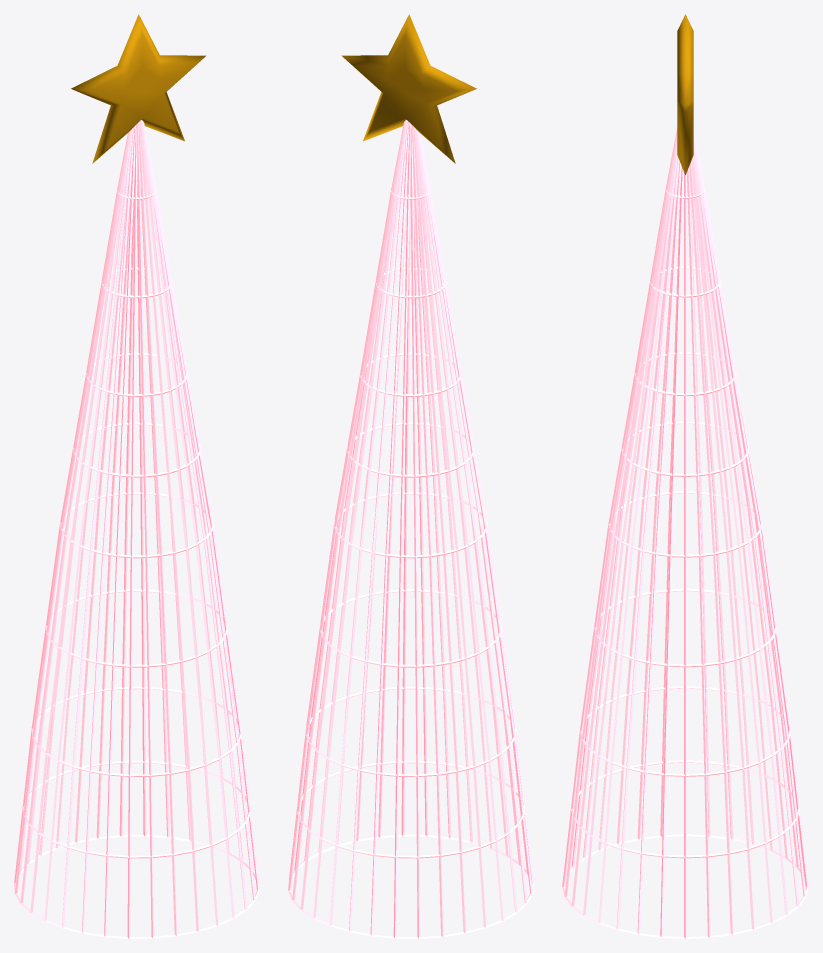
File: ARBOL CON LUCES 1.fbx
3 renders of one model, left to right at view 1: azimuth 30°, elevation 25°; view 2: azimuth 150°, elevation 25°; view 3: azimuth 270°, elevation 25°, orthographic.
Visible parts, largest first — view 1: Arbol Luces; view 2: Arbol Luces; view 3: Arbol Luces.
Boxes of the visible parts, box(x1,y1,x2,y2) form: Arbol Luces: box(14, 14, 259, 938); Arbol Luces: box(288, 14, 533, 938); Arbol Luces: box(562, 14, 808, 938).
Size of the model in its own units: 563 by 2200 by 563.
